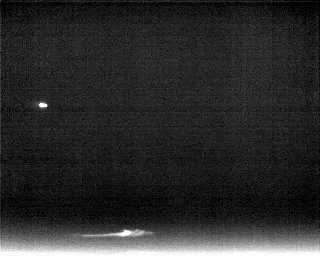AIRPLANE: (36, 100, 49, 110)
